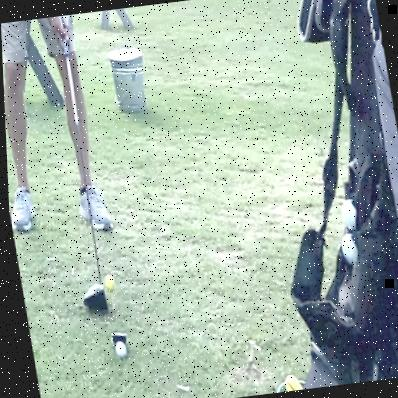ClubHead: (100, 272, 113, 294)
GolfBall: (73, 270, 106, 314)
